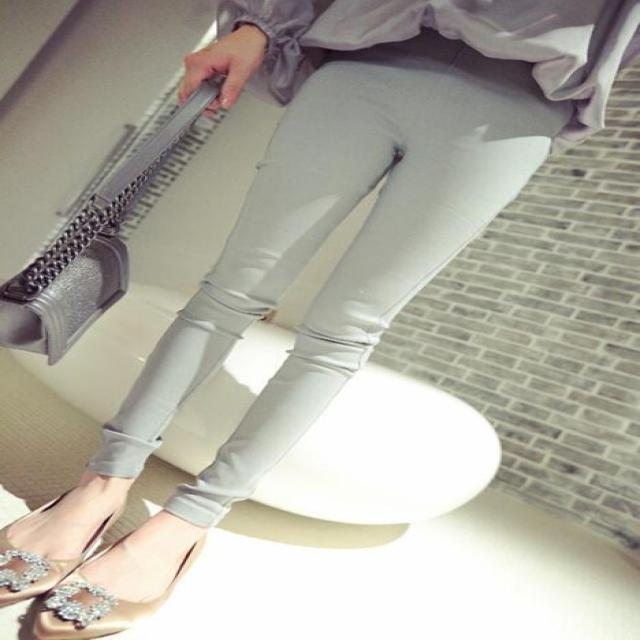trousers: (293, 34, 459, 507)
